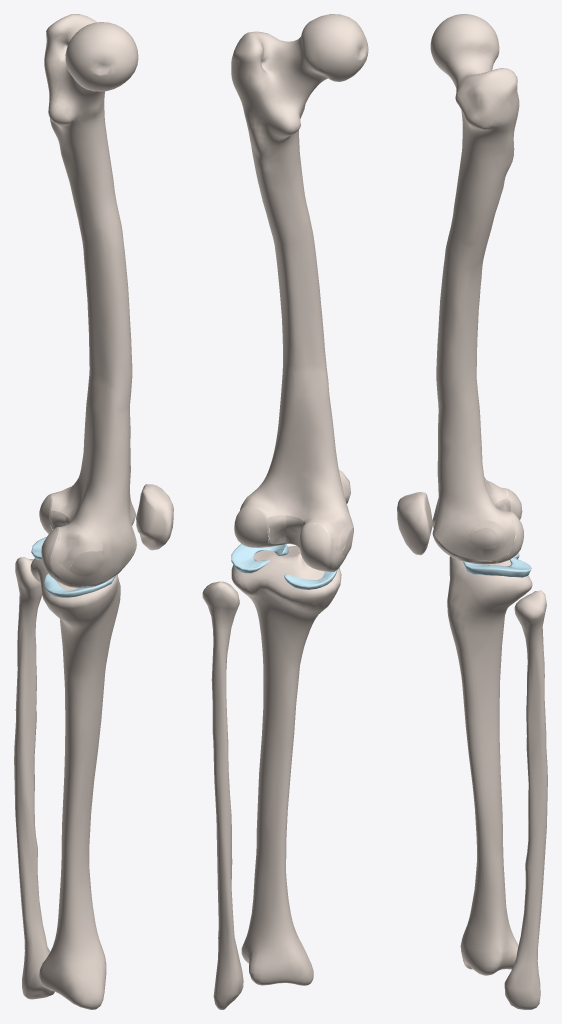
Rendered from leg_l.glb.
The picture shows the model from 3 angles, left to right: view 1: azimuth 90°, elevation 25°; view 2: azimuth 150°, elevation 25°; view 3: azimuth 270°, elevation 25°; orthographic projection. The views are drawn at different scales.
Visible parts, largest first — view 1: VH_F_femur_L, VH_F_tibia_L, VH_F_fibula_L, VH_F_patella_L, VH_F_meniscus_L, VH_F_medial_perichondular_surface_L, VH_F_medial_condyle_of_left_femur_inf, VH_F_articular_cartilage_of_knee_L, VH_F_medial_epicondylar_enthesis_L; view 2: VH_F_femur_L, VH_F_tibia_L, VH_F_fibula_L, VH_F_meniscus_L, VH_F_medial_condyle_of_left_femur_inf, VH_F_lateral_condyle_of_femur_inf_L, VH_F_anterior_cruciate_enthesis_L, VH_F_posterior_cruciate_enthesis_L; view 3: VH_F_femur_L, VH_F_tibia_L, VH_F_fibula_L, VH_F_patella_L, VH_F_meniscus_L, VH_F_lateral_perichondular_surface_L, VH_F_articular_cartilage_of_knee_L, VH_F_lateral_condyle_of_femur_inf_L.
Boxes of the visible parts, x1=… form: VH_F_femur_L: x1=44, y1=14, x2=138, y2=584; VH_F_tibia_L: x1=30, y1=558, x2=120, y2=1009; VH_F_fibula_L: x1=14, y1=557, x2=54, y2=999; VH_F_patella_L: x1=136, y1=484, x2=173, y2=550; VH_F_meniscus_L: x1=31, y1=537, x2=115, y2=597; VH_F_medial_perichondular_surface_L: x1=69, y1=550, x2=105, y2=575; VH_F_medial_condyle_of_left_femur_inf: x1=41, y1=528, x2=59, y2=581; VH_F_articular_cartilage_of_knee_L: x1=49, y1=493, x2=136, y2=586; VH_F_medial_epicondylar_enthesis_L: x1=62, y1=542, x2=103, y2=569; VH_F_femur_L: x1=231, y1=14, x2=368, y2=567; VH_F_tibia_L: x1=231, y1=546, x2=341, y2=985; VH_F_fibula_L: x1=202, y1=581, x2=243, y2=1009; VH_F_meniscus_L: x1=231, y1=539, x2=337, y2=589; VH_F_medial_condyle_of_left_femur_inf: x1=300, y1=524, x2=333, y2=570; VH_F_lateral_condyle_of_femur_inf_L: x1=234, y1=506, x2=268, y2=547; VH_F_anterior_cruciate_enthesis_L: x1=267, y1=515, x2=286, y2=544; VH_F_posterior_cruciate_enthesis_L: x1=285, y1=515, x2=303, y2=547; VH_F_femur_L: x1=430, y1=14, x2=519, y2=560; VH_F_tibia_L: x1=447, y1=552, x2=532, y2=975; VH_F_fibula_L: x1=504, y1=590, x2=547, y2=1009; VH_F_patella_L: x1=397, y1=492, x2=432, y2=555; VH_F_meniscus_L: x1=463, y1=551, x2=531, y2=577; VH_F_lateral_perichondular_surface_L: x1=468, y1=527, x2=500, y2=549; VH_F_articular_cartilage_of_knee_L: x1=432, y1=488, x2=515, y2=563; VH_F_lateral_condyle_of_femur_inf_L: x1=505, y1=512, x2=523, y2=559.
Bounding box in the file's own units: 0.1016 × 0.7718 × 0.1105.
